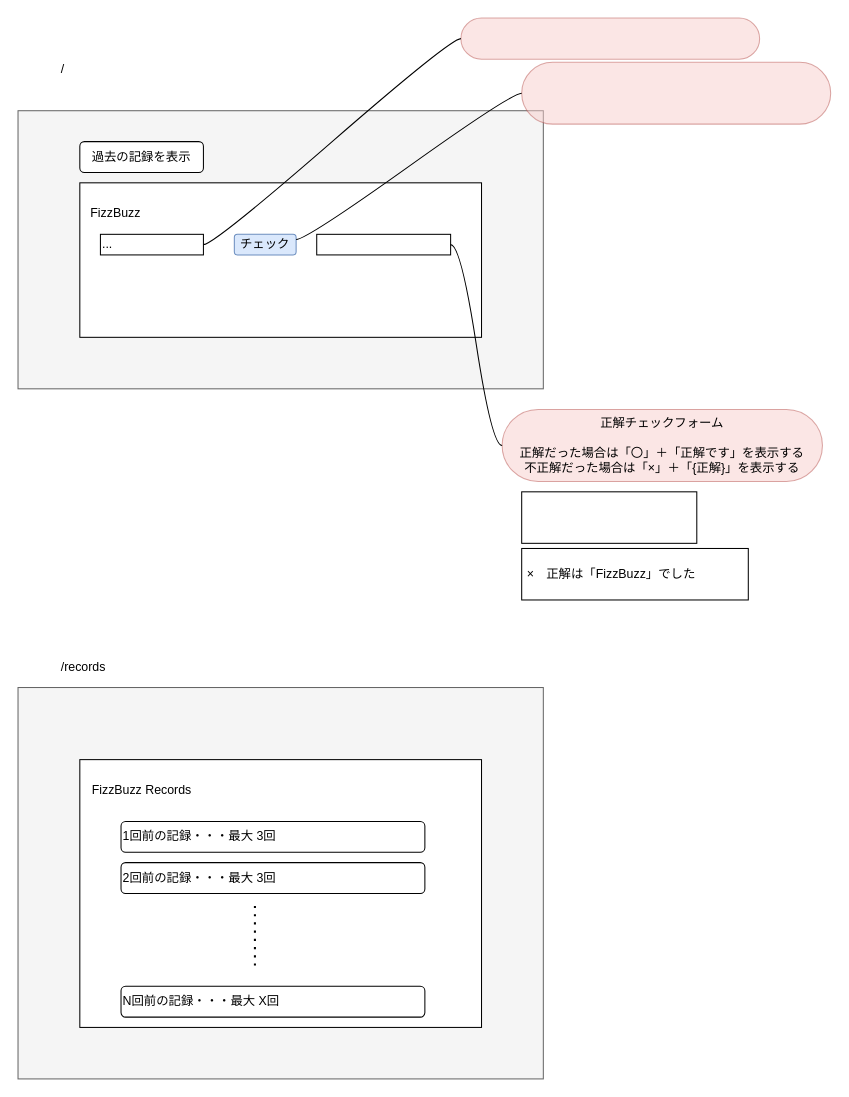
This 849x1097 diagram has some shape labels left out. Each missing label, with the box of its shape:
〇 正解です: (521, 491, 697, 543)
チェックボタン 入力フォームに入れた値が正しいか確認する。 結果は正解チェックコンポーネントに表示させる: (521, 61, 831, 124)
入力フォーム 数字もしくはFizz/Buzz/FizzBuzzを入力させる: (460, 17, 760, 59)
正解チェック: (316, 233, 451, 255)
